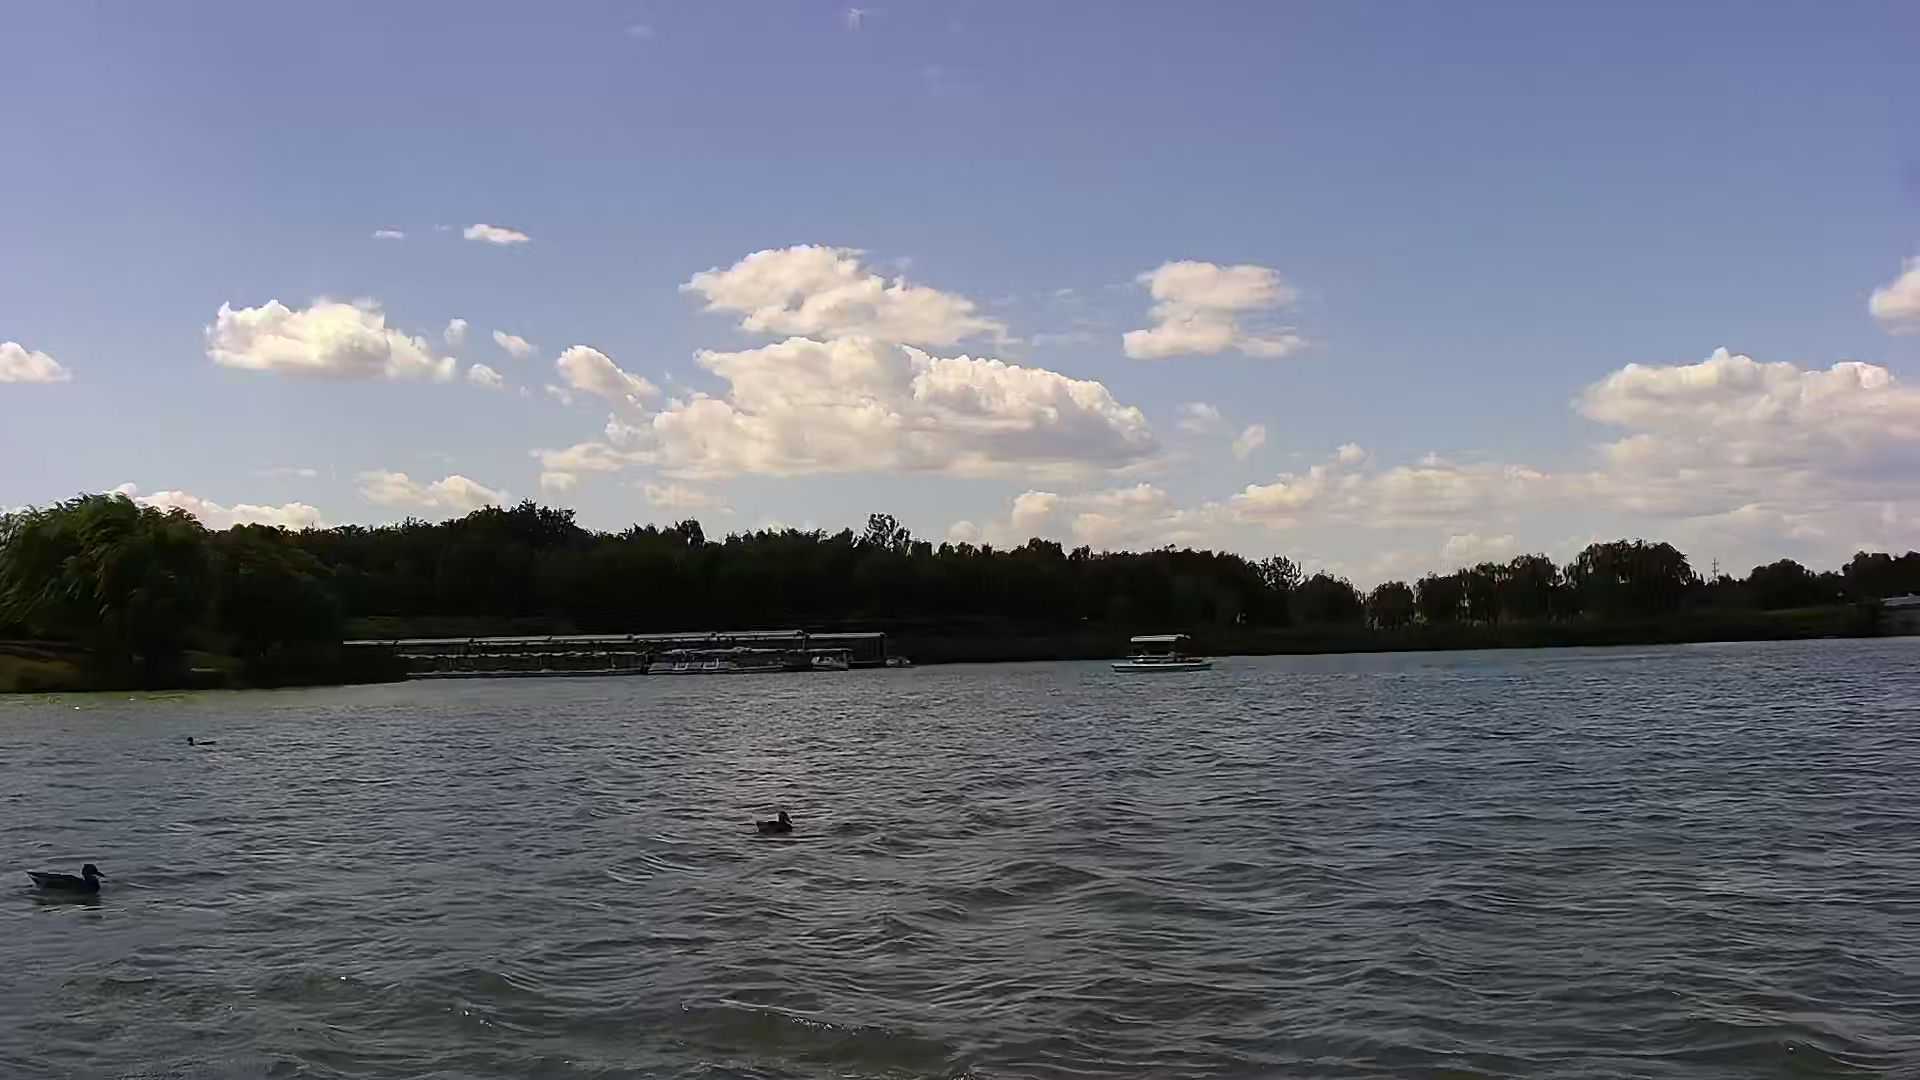animal: (26, 857, 107, 897), (748, 806, 796, 837)
boat: (1121, 632, 1207, 679)
harbor: (406, 632, 876, 676)
